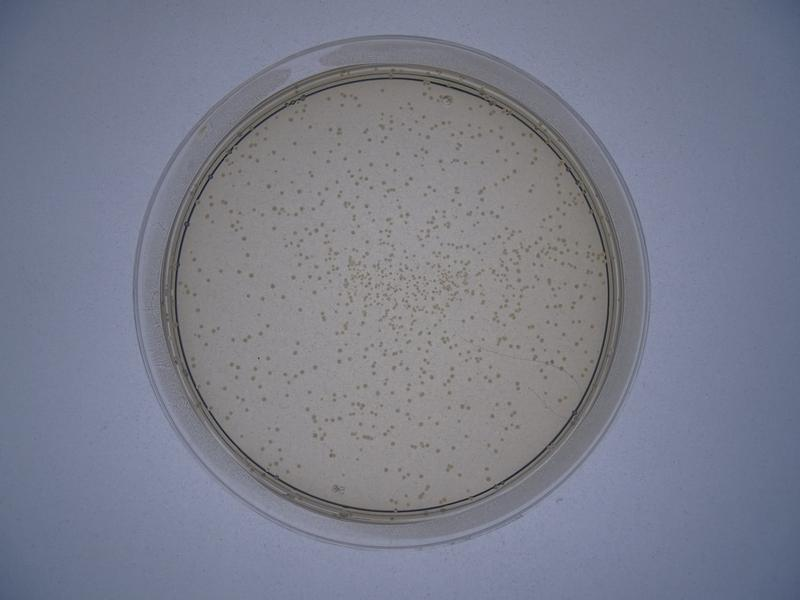colony: (233, 266, 243, 277), (266, 280, 275, 290), (393, 148, 401, 159), (290, 139, 298, 149), (498, 202, 506, 211), (487, 411, 495, 420), (478, 158, 487, 166), (295, 306, 303, 314), (309, 149, 318, 156), (289, 272, 296, 280)
